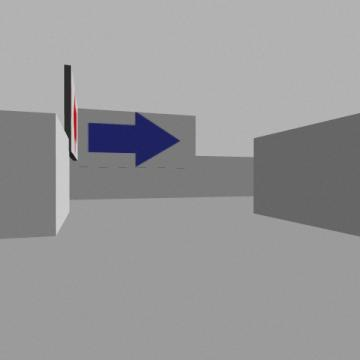blue_right: (88, 112, 179, 166)
